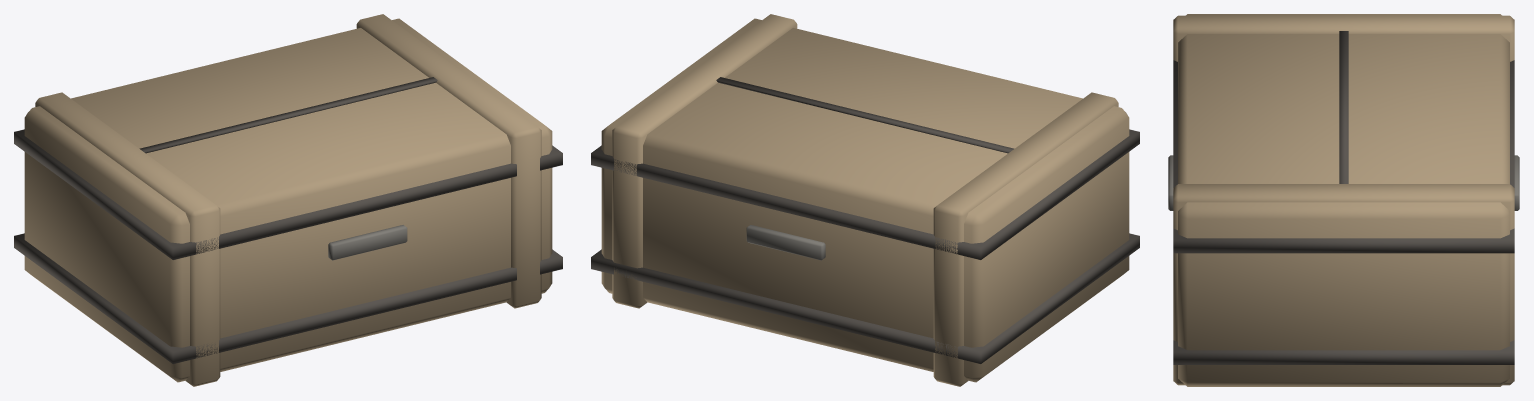
The model's file is convoy_crate.glb.
3 views of the same model, side by side, from view 1: azimuth 30°, elevation 25°; view 2: azimuth 150°, elevation 25°; view 3: azimuth 270°, elevation 25° (orthographic). The views are drawn at different scales.
Visible parts, largest first — view 1: convoy_crate; view 2: convoy_crate; view 3: convoy_crate.
Boxes of the visible parts, bbox=[...] form: convoy_crate: bbox=[14, 14, 562, 386]; convoy_crate: bbox=[591, 14, 1139, 386]; convoy_crate: bbox=[1168, 14, 1519, 386].
Size of the model in its own units: 1.02 by 0.44 by 0.74.
